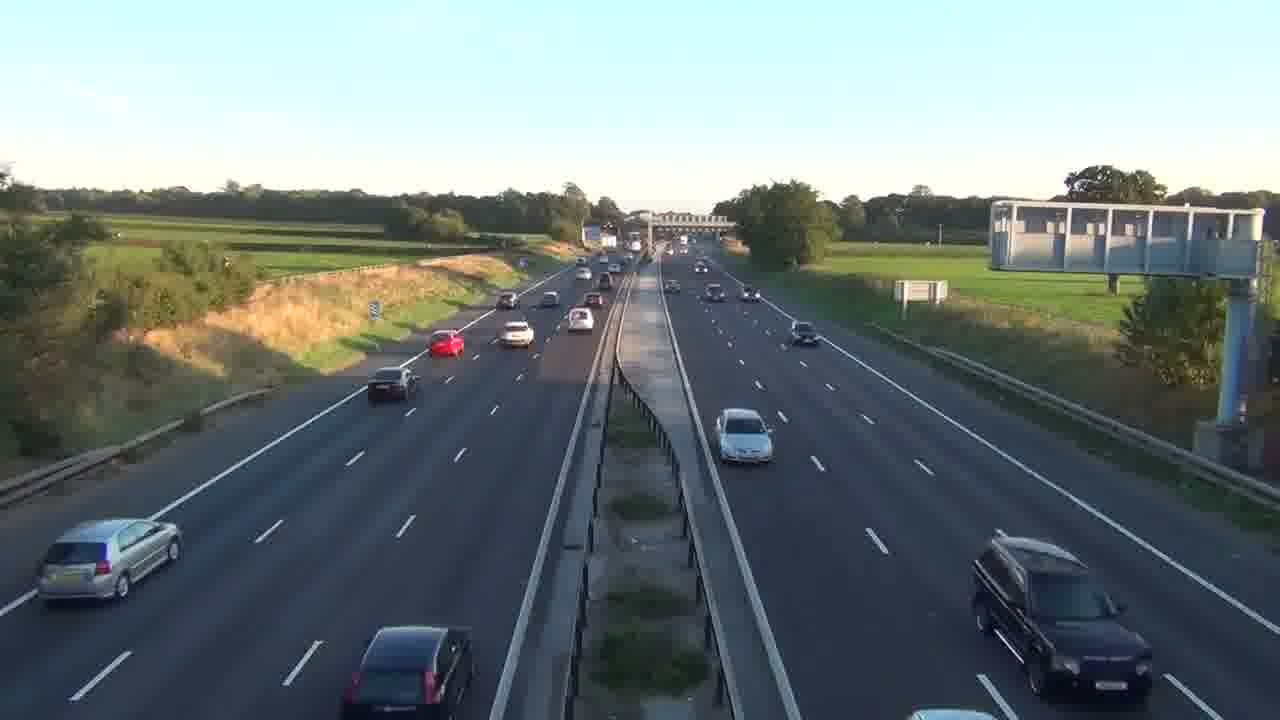car: (34, 517, 182, 606), (340, 624, 476, 718), (715, 407, 775, 465), (790, 321, 819, 346), (567, 306, 593, 331)
truck: (968, 529, 1155, 702)
